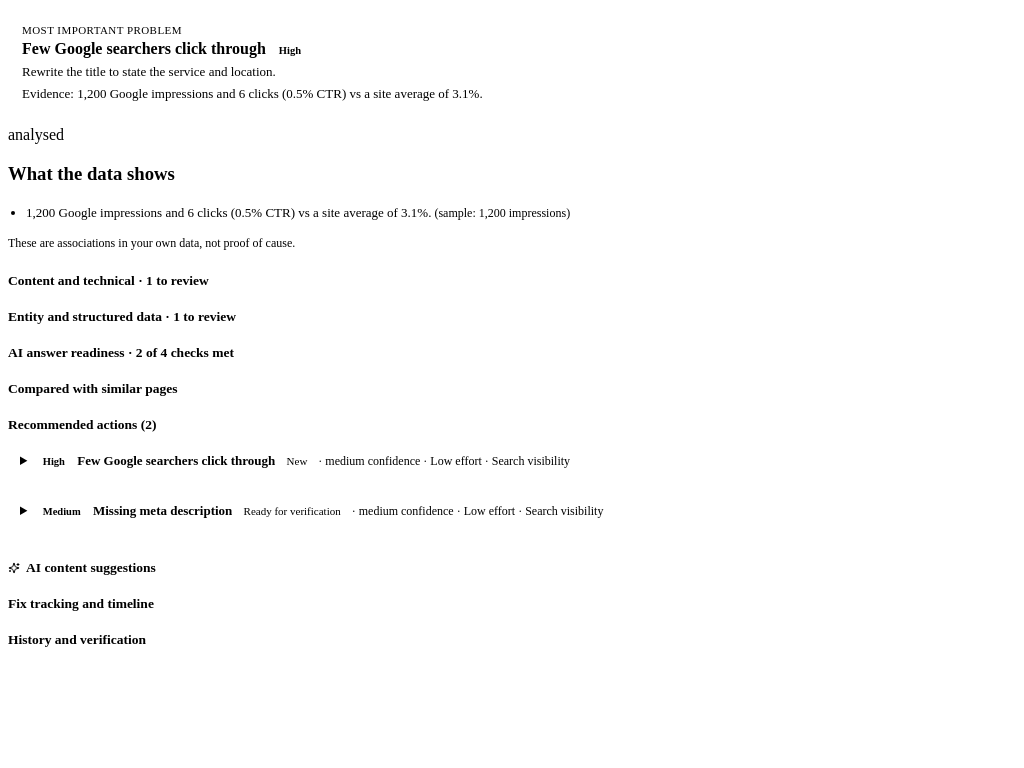
Test case: AI suggestions › are generated on request, labelled, and shown next to the current text
Click the heading "AI content suggestions" at [82, 568], box x1=8 y1=560 x2=156 y2=575
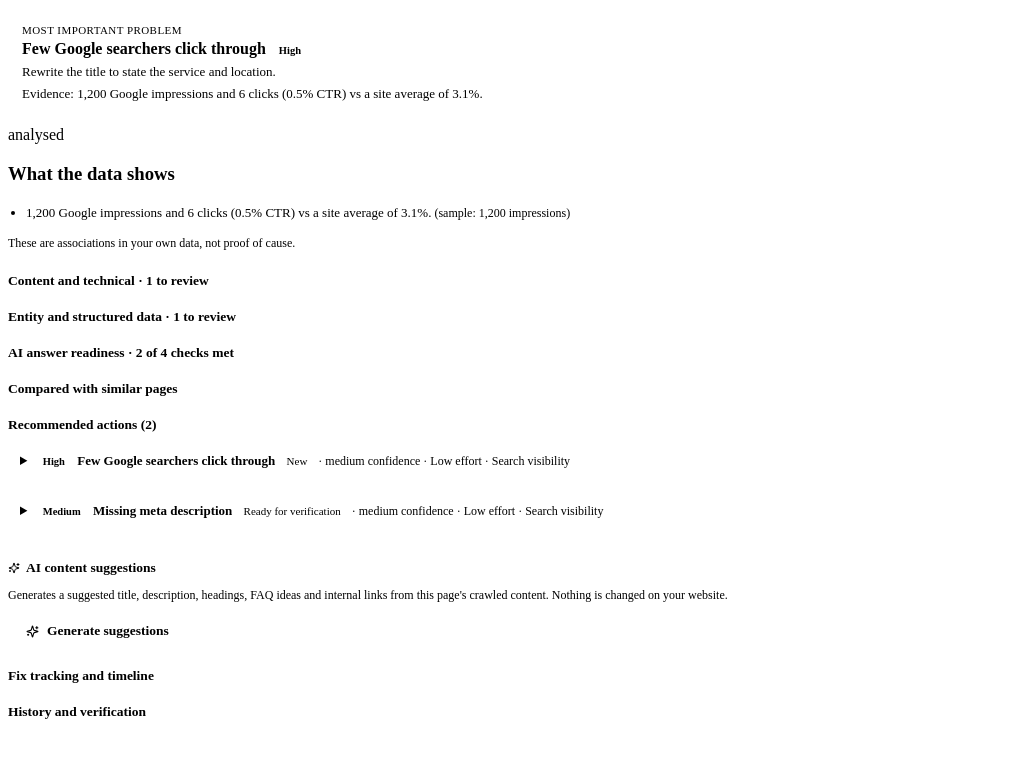
Click the button "Generate suggestions" at [97, 632], box x1=8 y1=615 x2=187 y2=648
(page scrolled)
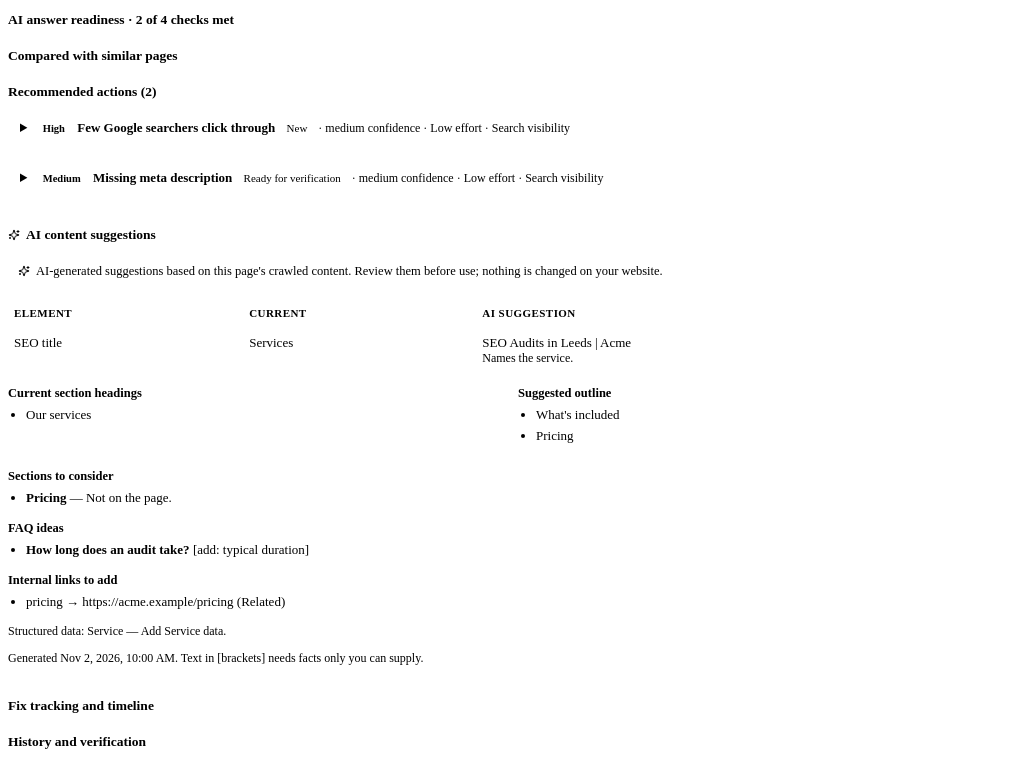
Check: the text "nothing is changed on your website" is shown, box x1=36 y1=264 x2=663 y2=278
Check: the text "Services" is shown, box x1=243 y1=327 x2=476 y2=374
Check: the column heading "AI suggestion" is shown, box x1=476 y1=299 x2=1016 y2=327
